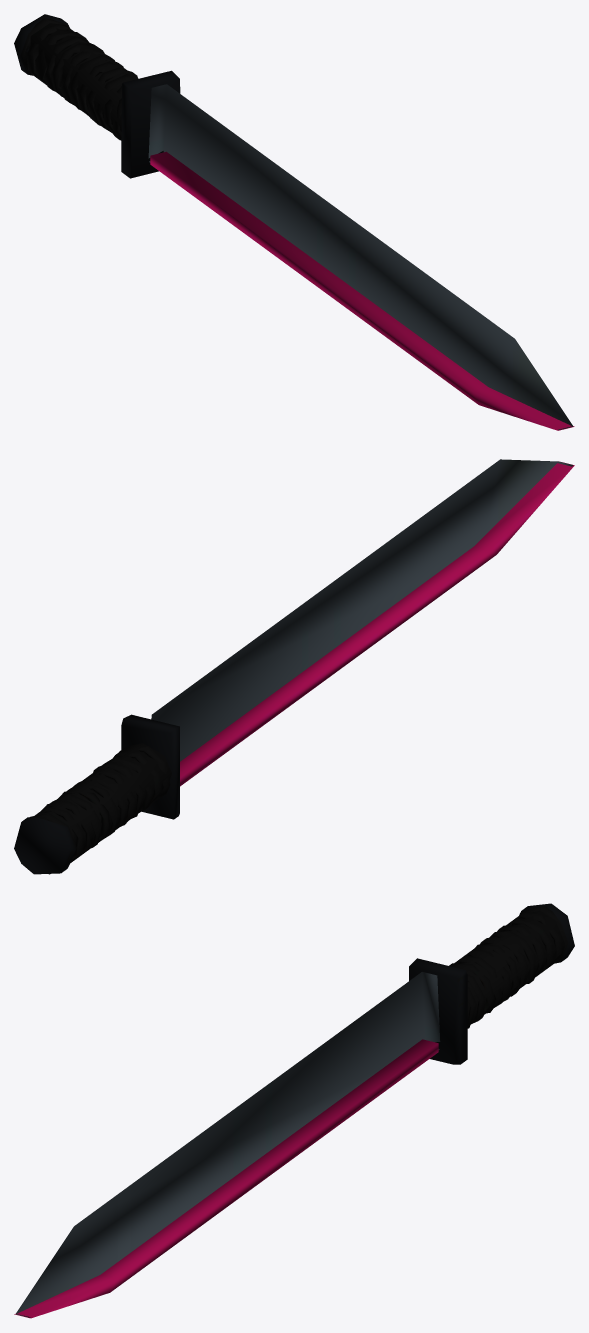
Rendered from weapon_blade.glb.
3 views of the same model, one above another, from view 1: azimuth 30°, elevation 25°; view 2: azimuth 150°, elevation 25°; view 3: azimuth 330°, elevation 25° (orthographic).
Parts seen in each view (by area): view 1: weapon_blade; view 2: weapon_blade; view 3: weapon_blade.
Part boxes in pixels (bbox=[...]): weapon_blade: bbox=[14, 14, 574, 430]; weapon_blade: bbox=[14, 459, 574, 874]; weapon_blade: bbox=[14, 903, 574, 1318].
Size of the model in its own units: 0.0495 by 0.0763 by 0.799.
1 material, 1 textured.
